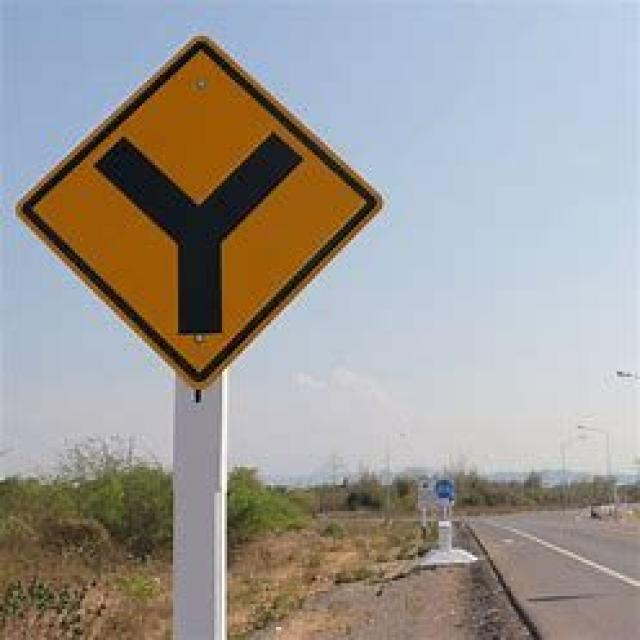Y_INTERSECTION: (13, 31, 384, 387)
